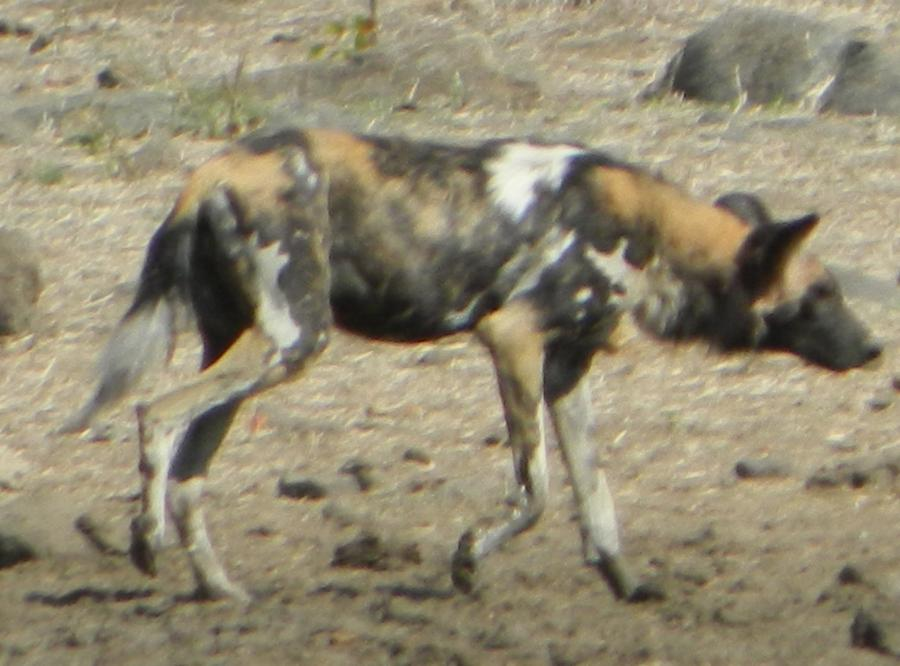wilddog: (1, 1, 900, 666)
